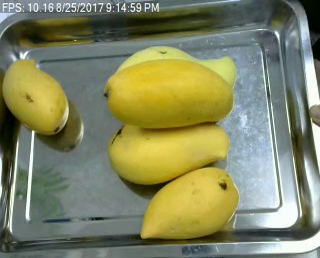Mango: (101, 55, 236, 129), (107, 120, 233, 186), (141, 166, 241, 241), (118, 41, 237, 91), (2, 58, 72, 137)
